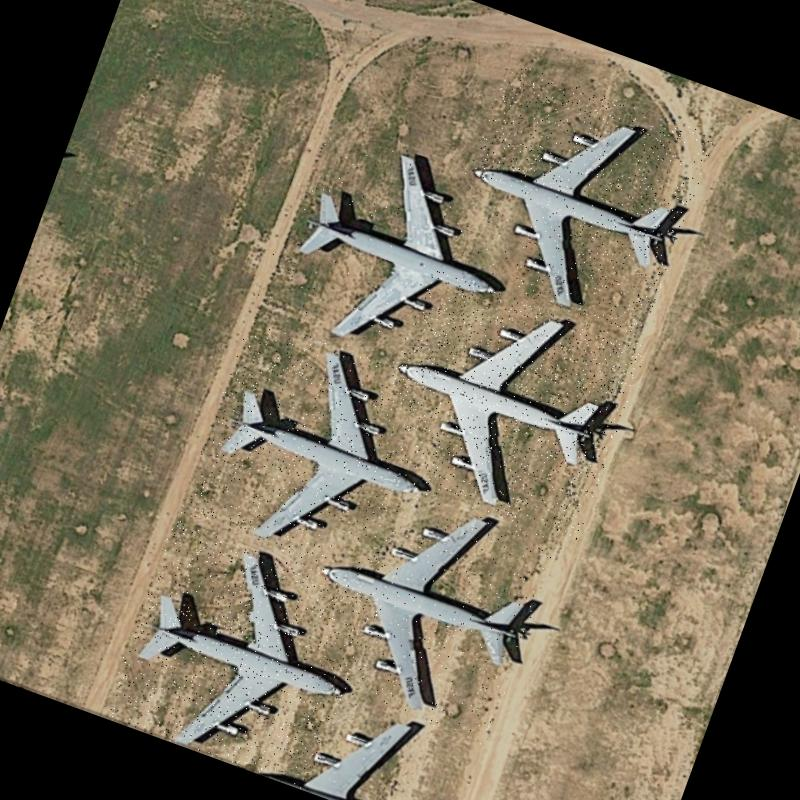A14: (247, 117, 540, 392), (283, 463, 561, 748), (434, 61, 716, 339), (360, 268, 648, 540), (101, 518, 380, 792), (178, 314, 452, 586)
